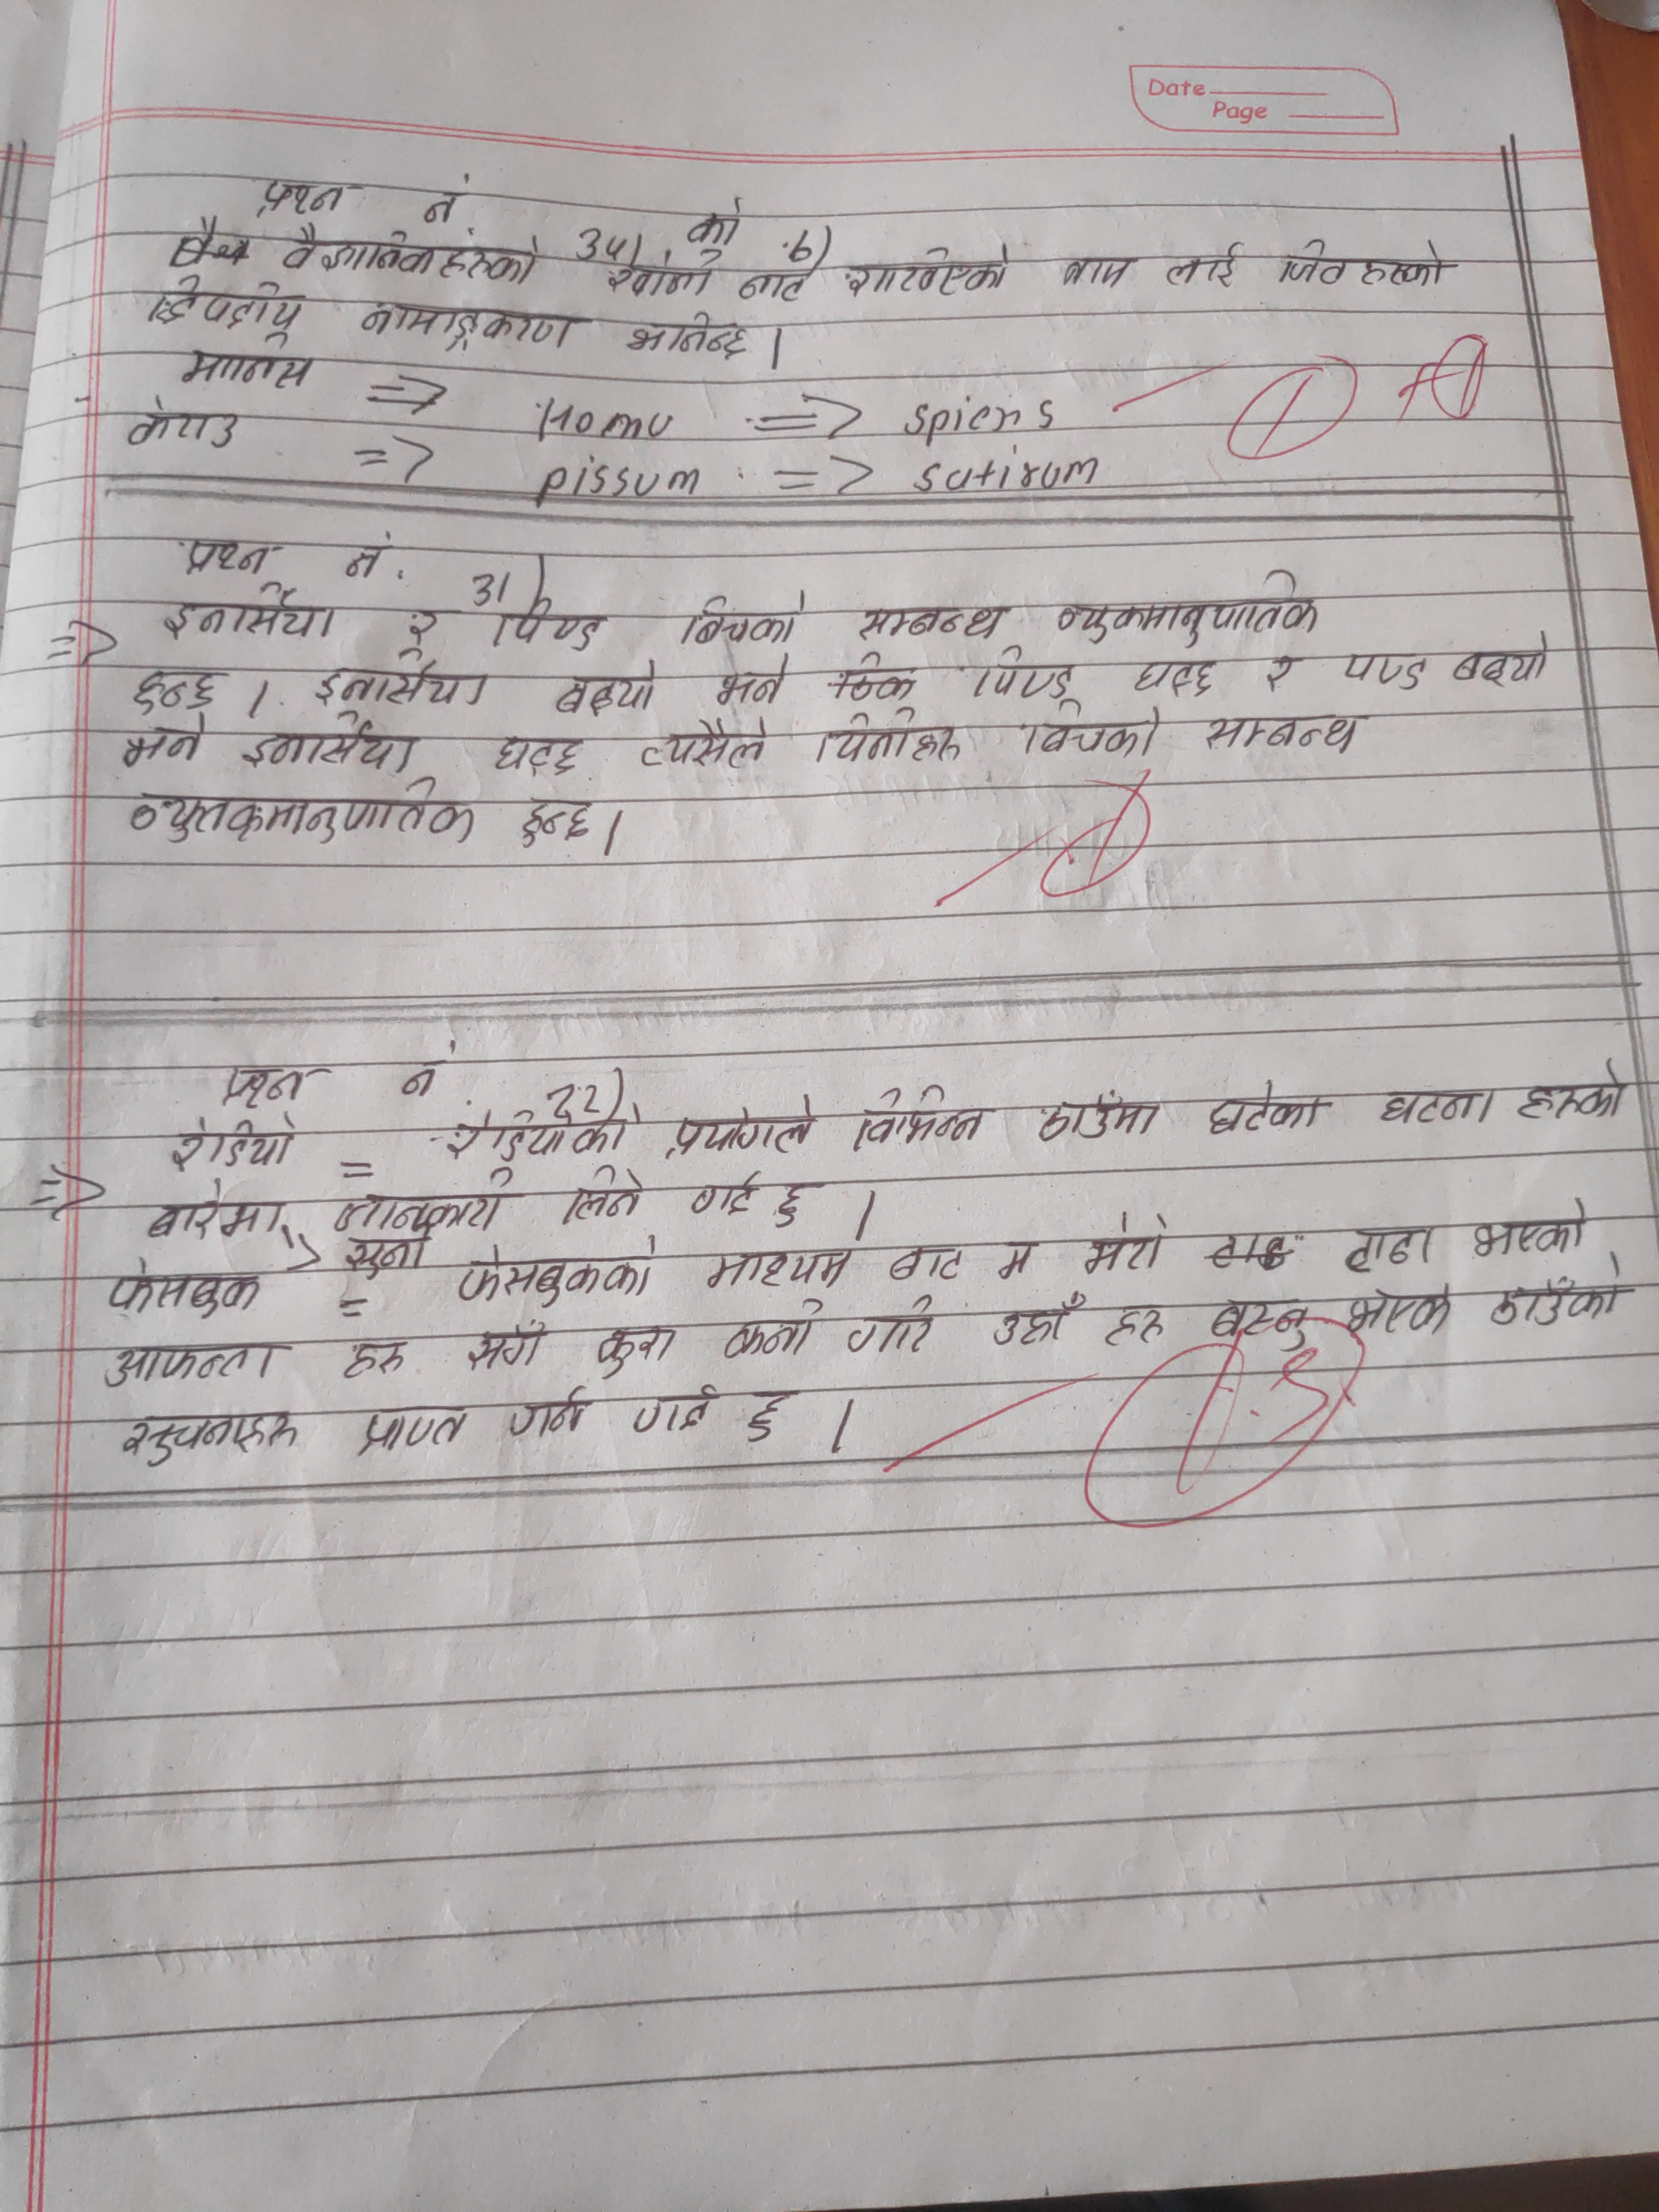text: (120, 780, 483, 853), (1056, 566, 1321, 653), (272, 223, 545, 287), (451, 1233, 657, 1310), (354, 298, 587, 357), (326, 1165, 511, 1235), (237, 711, 420, 779), (1279, 230, 1457, 298), (115, 1404, 305, 1467), (99, 1336, 296, 1393), (441, 1108, 638, 1162), (660, 1097, 819, 1163), (138, 272, 308, 331), (101, 1259, 261, 1322), (843, 246, 1018, 303), (160, 594, 345, 648), (1197, 700, 1363, 759), (849, 1080, 985, 1151), (310, 658, 490, 712), (1492, 1264, 1626, 1336), (1469, 1191, 1600, 1264), (809, 712, 969, 772), (1018, 702, 1175, 761), (148, 1181, 289, 1245), (683, 585, 809, 653), (706, 1244, 852, 1299), (179, 336, 312, 397), (847, 599, 1014, 646), (620, 310, 755, 368), (124, 394, 242, 458), (1335, 1280, 1453, 1345), (629, 719, 770, 773), (1514, 1061, 1629, 1127), (547, 658, 662, 723), (164, 1120, 296, 1176), (486, 603, 613, 660), (1204, 1296, 1314, 1360), (716, 1296, 821, 1362), (1204, 1076, 1324, 1134), (842, 1298, 943, 1366), (347, 1407, 481, 1456), (1333, 641, 1446, 698), (554, 1162, 647, 1230), (460, 1318, 559, 1381), (1080, 1211, 1169, 1280), (1037, 1092, 1162, 1141), (617, 1378, 723, 1435), (504, 792, 598, 857), (992, 1285, 1086, 1350), (589, 1317, 676, 1383), (1453, 636, 1563, 688), (502, 1378, 596, 1439), (1373, 1085, 1504, 1129), (120, 711, 211, 773), (1338, 1221, 1434, 1278), (598, 260, 723, 303), (713, 646, 795, 712), (493, 725, 589, 780), (1162, 237, 1249, 298), (211, 1062, 315, 1113), (246, 172, 357, 219), (969, 651, 1080, 698), (176, 531, 270, 585), (683, 1165, 762, 1223), (340, 1235, 443, 1278), (890, 1231, 965, 1291), (131, 662, 221, 711), (742, 1379, 807, 1446), (1131, 653, 1230, 695), (1054, 247, 1141, 294), (338, 1331, 416, 1381), (1098, 1301, 1173, 1353), (418, 165, 474, 232), (735, 261, 812, 308), (687, 204, 755, 256), (988, 1224, 1040, 1292), (394, 1042, 441, 1111), (338, 528, 392, 585), (403, 597, 455, 650), (1258, 653, 1310, 702), (775, 1174, 819, 1226)
